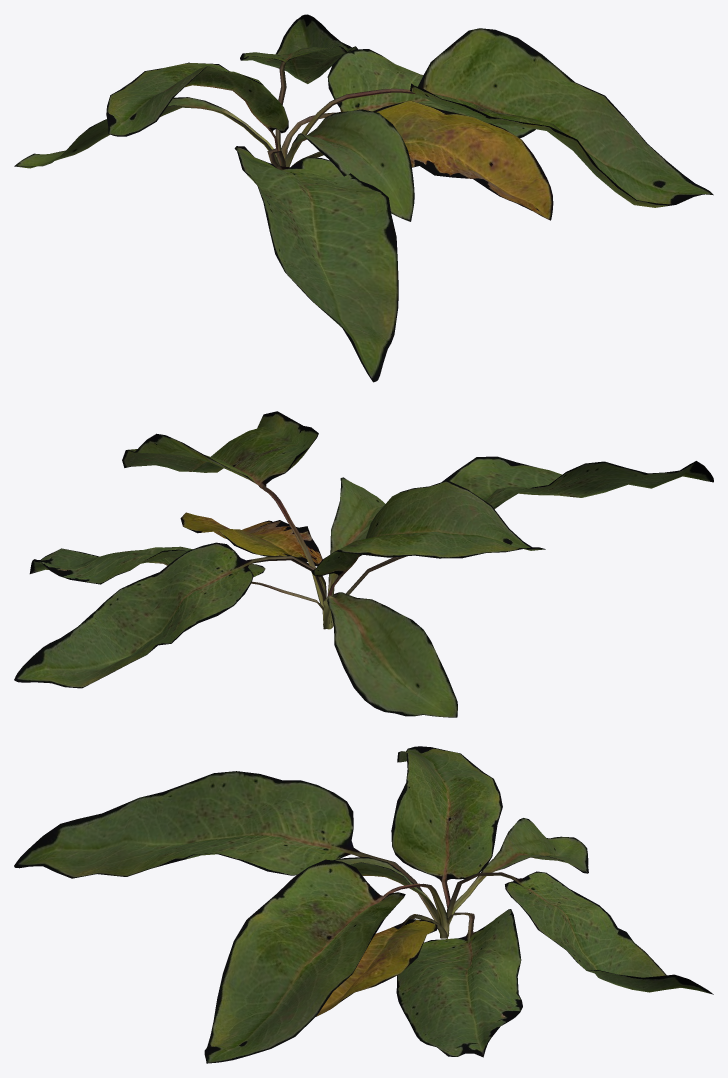
File: weed_plant_02_a.gltf
The picture shows the model from 3 angles, top to bottom: view 1: azimuth 30°, elevation 25°; view 2: azimuth 150°, elevation 25°; view 3: azimuth 270°, elevation 25°; orthographic projection. The views are drawn at different scales.
Visible parts, largest first — view 1: weed_plant_02_a_LOD0; view 2: weed_plant_02_a_LOD0; view 3: weed_plant_02_a_LOD0.
Boxes of the visible parts, x1,y1,x2,y2 form: weed_plant_02_a_LOD0: (14, 14, 713, 382); weed_plant_02_a_LOD0: (14, 411, 713, 717); weed_plant_02_a_LOD0: (14, 746, 713, 1063).
Size of the model in its own units: 0.2194 by 0.0725 by 0.2909.
1 material, 1 textured.
